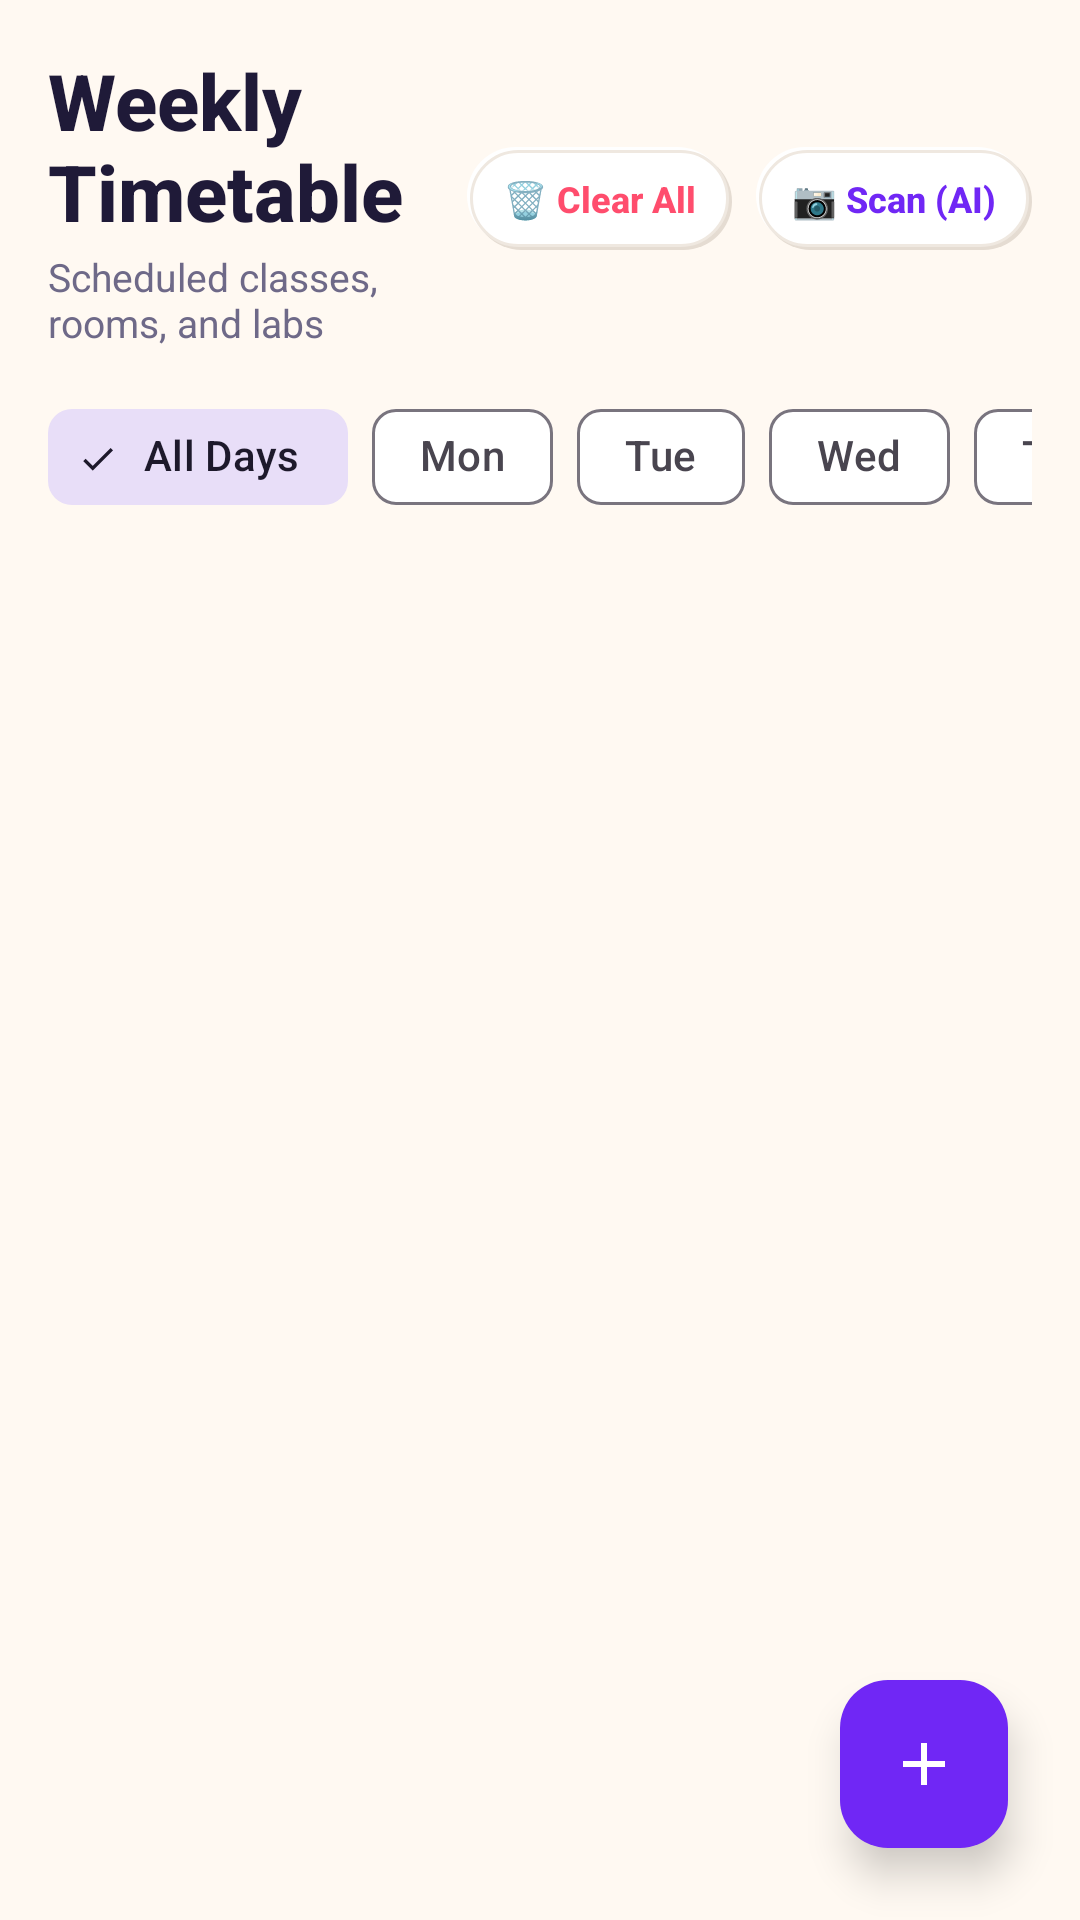

Locate icon controls on the screen. Image size 1080px×1920px, boxes as (x1, y1, x2, y2).
Add Class: (840, 1680, 1008, 1848)
